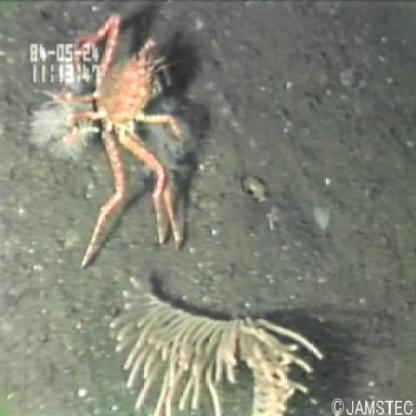Bio: (21, 7, 192, 271), (106, 269, 326, 416)
